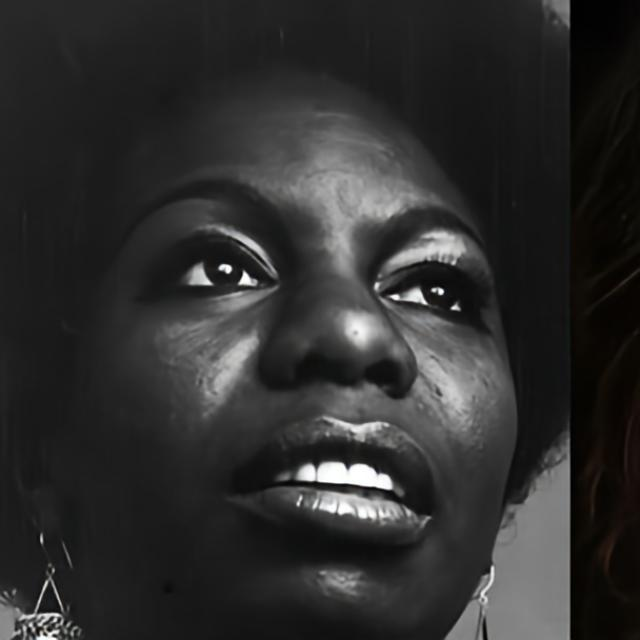disgust: (65, 62, 517, 640)
